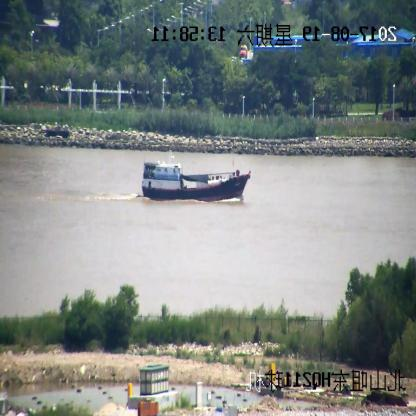Fishing Boat: (141, 160, 250, 201)
